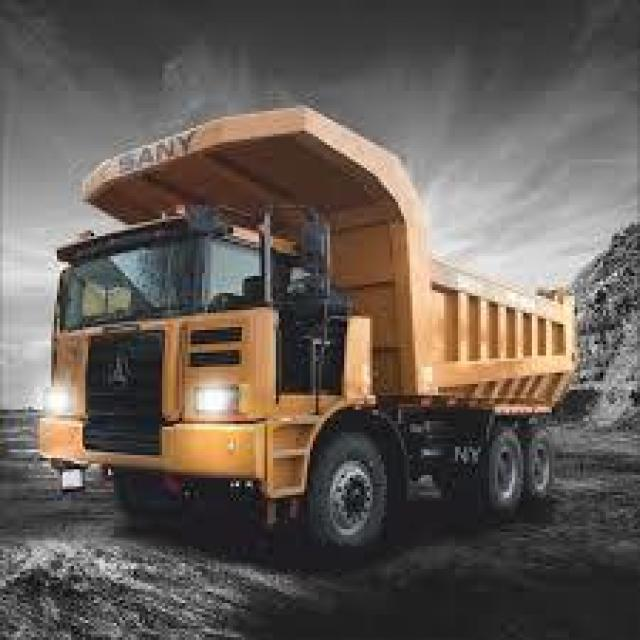dump_truck: (33, 109, 579, 559)
